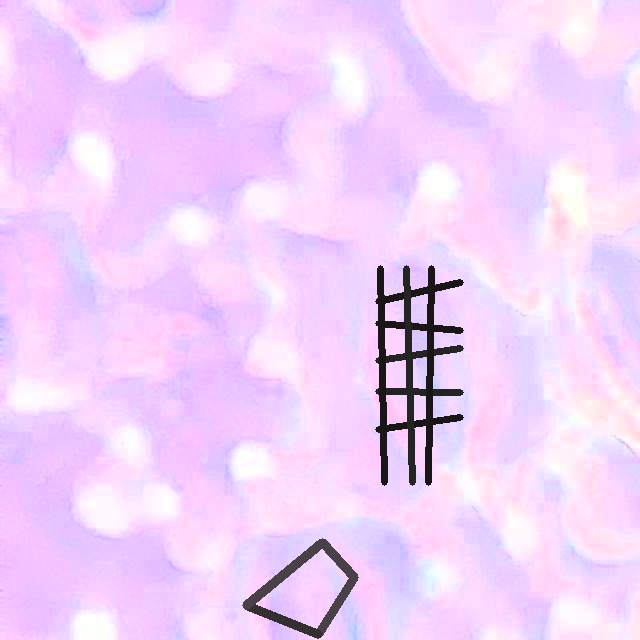close: (242, 538, 358, 638)
open: (375, 265, 462, 485)
